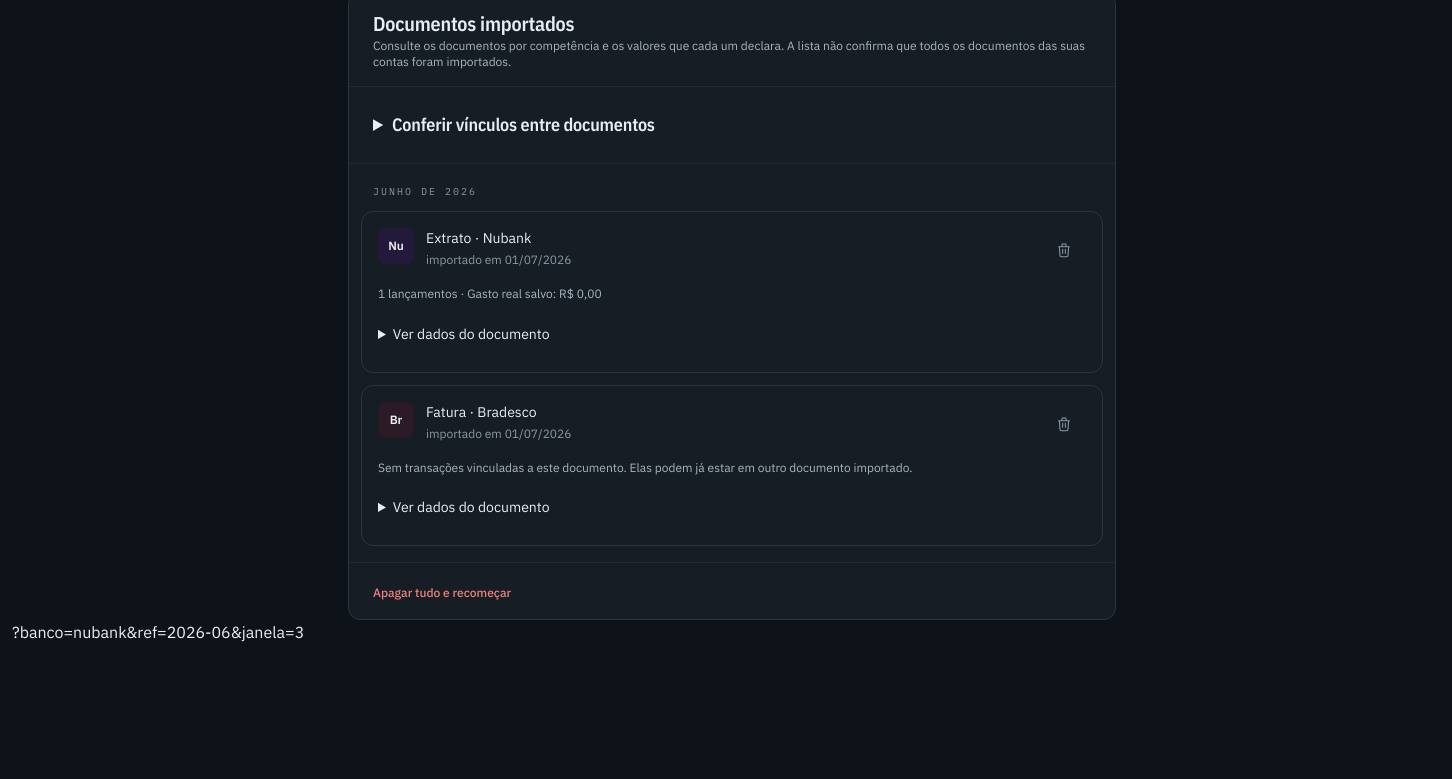
Scenario: abre a contraparte documentada em Faturas, preserva filtros e foca seus dados
Click the heading "Conferir vínculos entre documentos": point(523, 124) [392, 113, 655, 136]
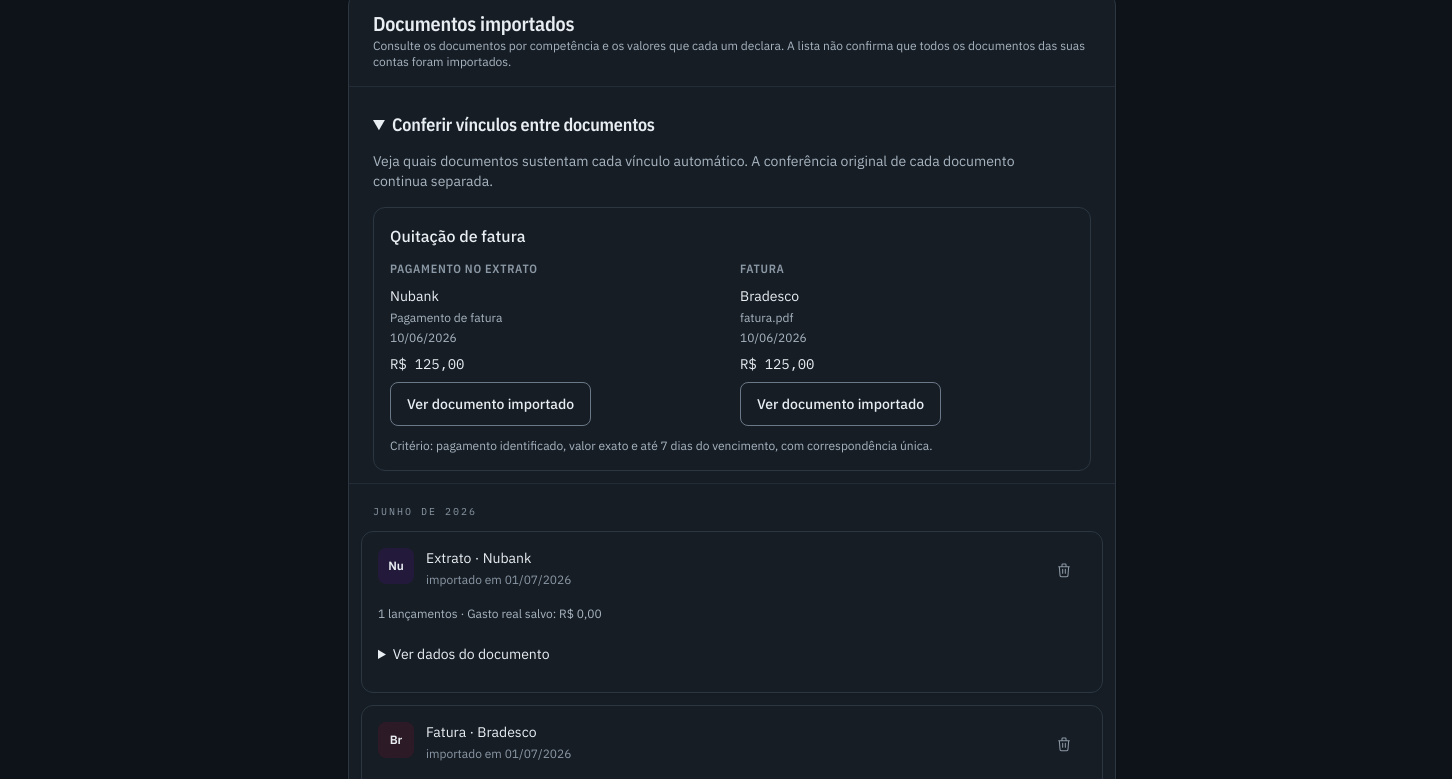
Click the button "Ver documento importado" below "fatura.pdf": point(841, 404) [740, 382, 941, 426]
(page scrolled)
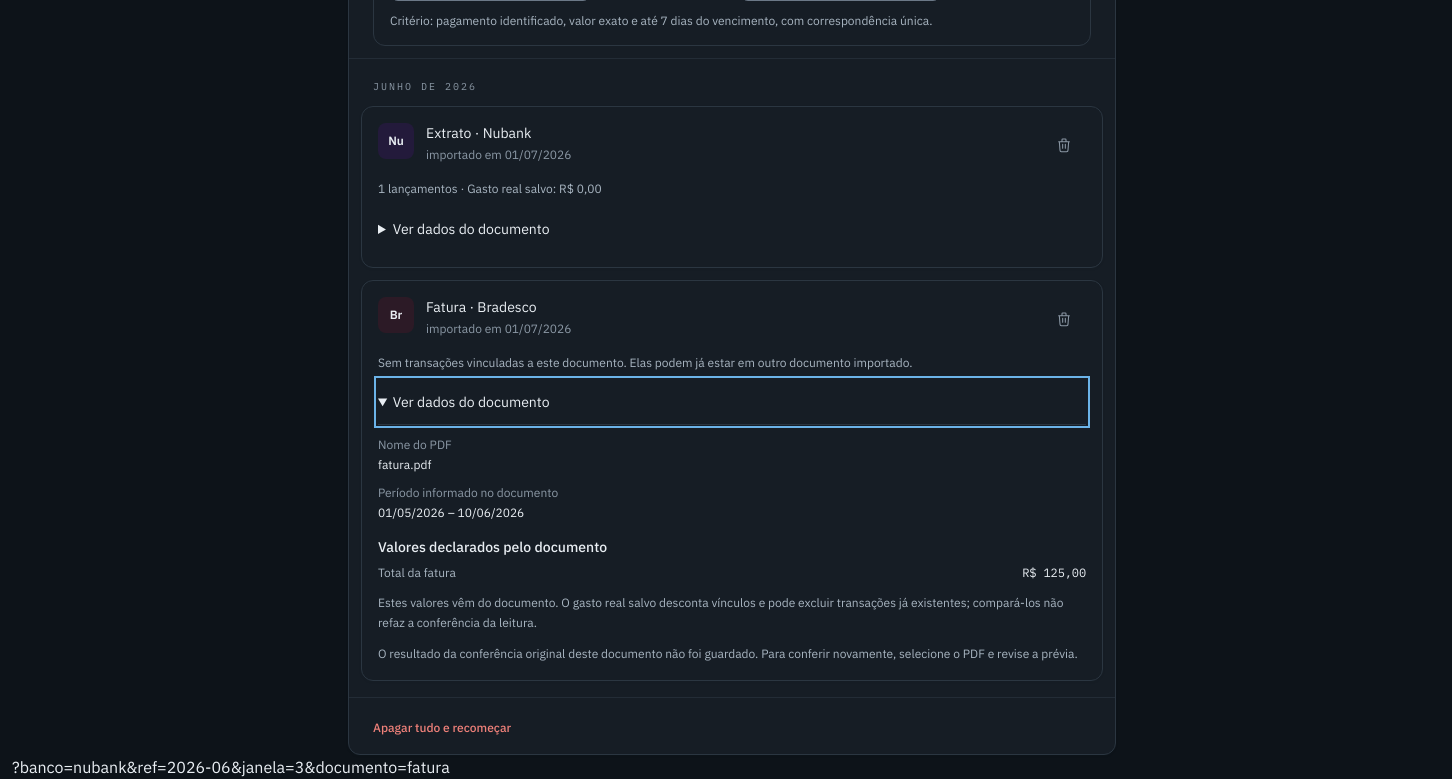
Expected: the text named "Local" shows "banco=nubank", [12, 756, 450, 776]
Expected: the text named "Local" shows "documento=fatura", [12, 756, 450, 776]
